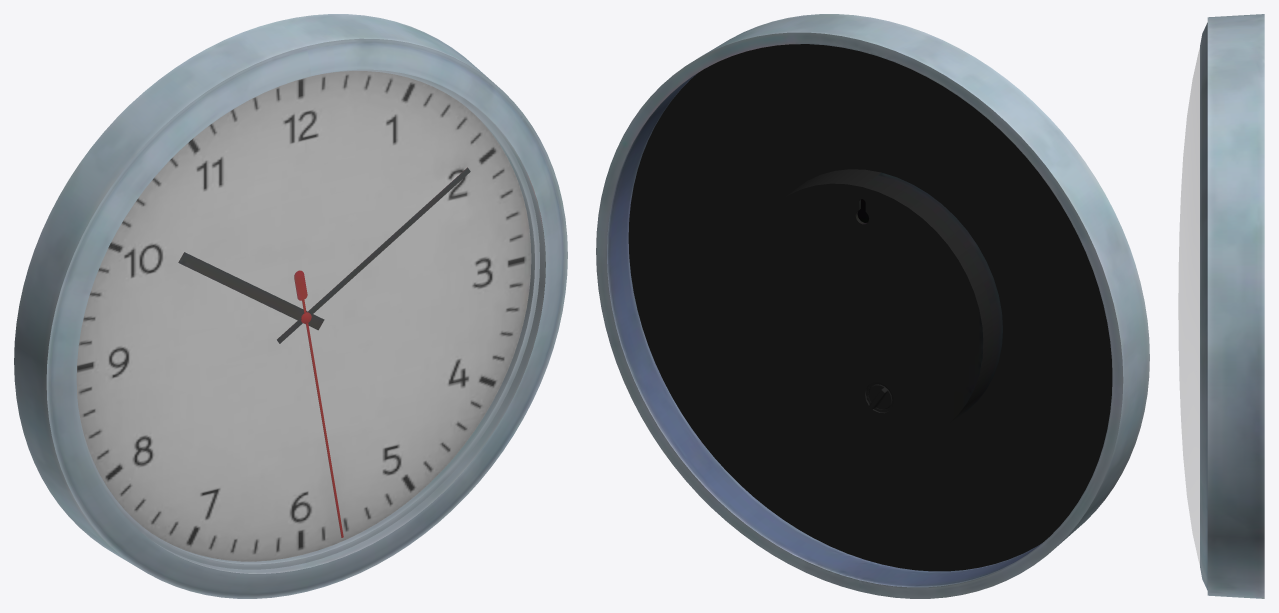
The model's file is wall-clock.glb.
The picture shows the model from 3 angles, left to right: view 1: azimuth 30°, elevation 25°; view 2: azimuth 150°, elevation 25°; view 3: azimuth 270°, elevation 25°; orthographic projection. The views are drawn at different scales.
Parts seen in each view (by area): view 1: wall_clock, wall_clock_hours_hand, wall_clock_minute_hand, wall_clock_second_hand; view 2: wall_clock; view 3: wall_clock.
Boxes of the visible parts, box(x1,y1,x2,y2) form: wall_clock: box(14, 14, 567, 598); wall_clock_hours_hand: box(178, 252, 324, 330); wall_clock_minute_hand: box(277, 167, 470, 343); wall_clock_second_hand: box(294, 270, 343, 537); wall_clock: box(596, 14, 1149, 598); wall_clock: box(1178, 14, 1264, 598).
Bounding box in the file's own units: 0.3205 × 0.3205 × 0.0472.
Materials: 2 (1 with a texture image).
